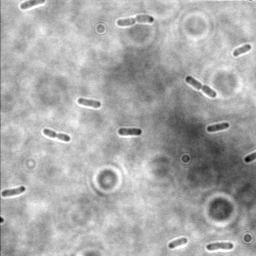Dividing: (184, 75, 217, 99), (115, 13, 154, 28), (41, 127, 71, 142), (204, 240, 234, 251)
Rod: (1, 185, 27, 199), (76, 97, 102, 109), (206, 121, 230, 133), (232, 43, 252, 57), (19, 1, 46, 11), (168, 236, 188, 249), (118, 127, 143, 136)
